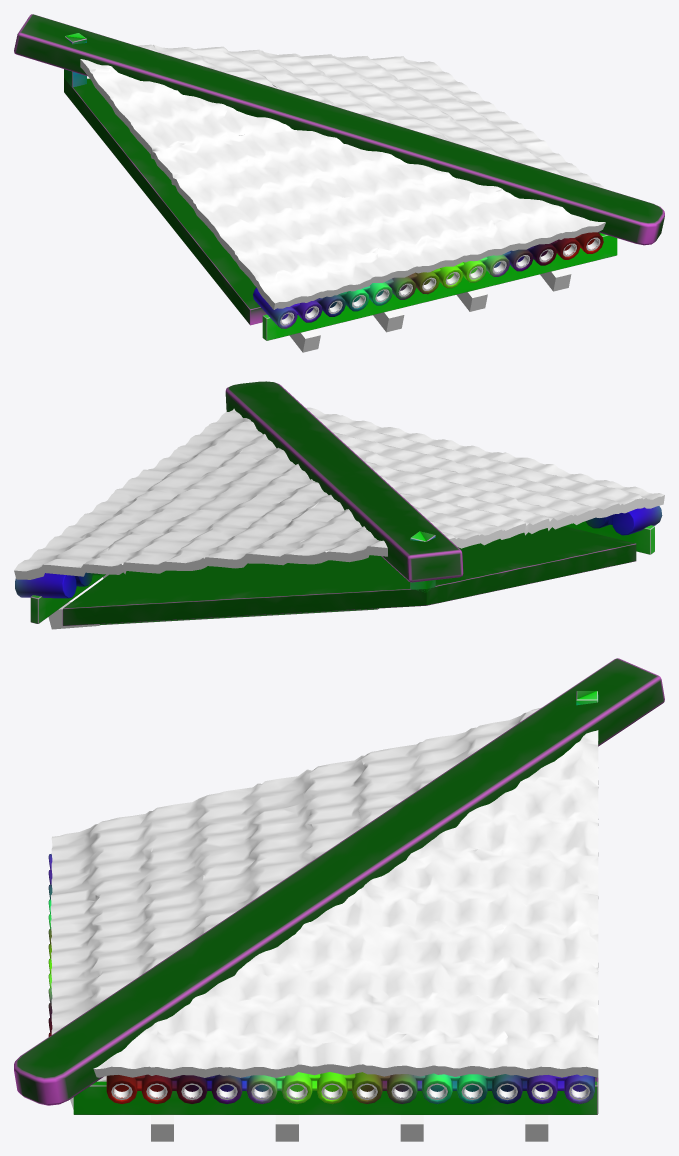
File: overhang_slope_200_01_corner.fbx
3 views of the same model, one above another, from view 1: azimuth 30°, elevation 25°; view 2: azimuth 150°, elevation 25°; view 3: azimuth 270°, elevation 25° (orthographic). The views are drawn at different scales.
Parts seen in each view (by area): view 1: overhang_slope_200_01_corner; view 2: overhang_slope_200_01_corner; view 3: overhang_slope_200_01_corner.
Boxes of the visible parts, x1=… form: overhang_slope_200_01_corner: x1=14, y1=14, x2=664, y2=352; overhang_slope_200_01_corner: x1=14, y1=381, x2=664, y2=629; overhang_slope_200_01_corner: x1=14, y1=658, x2=664, y2=1141.
Size of the model in its own units: 2.92 by 1.2 by 2.97.
